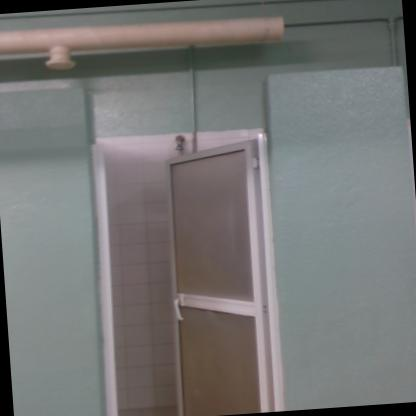semi: (69, 107, 320, 415)
